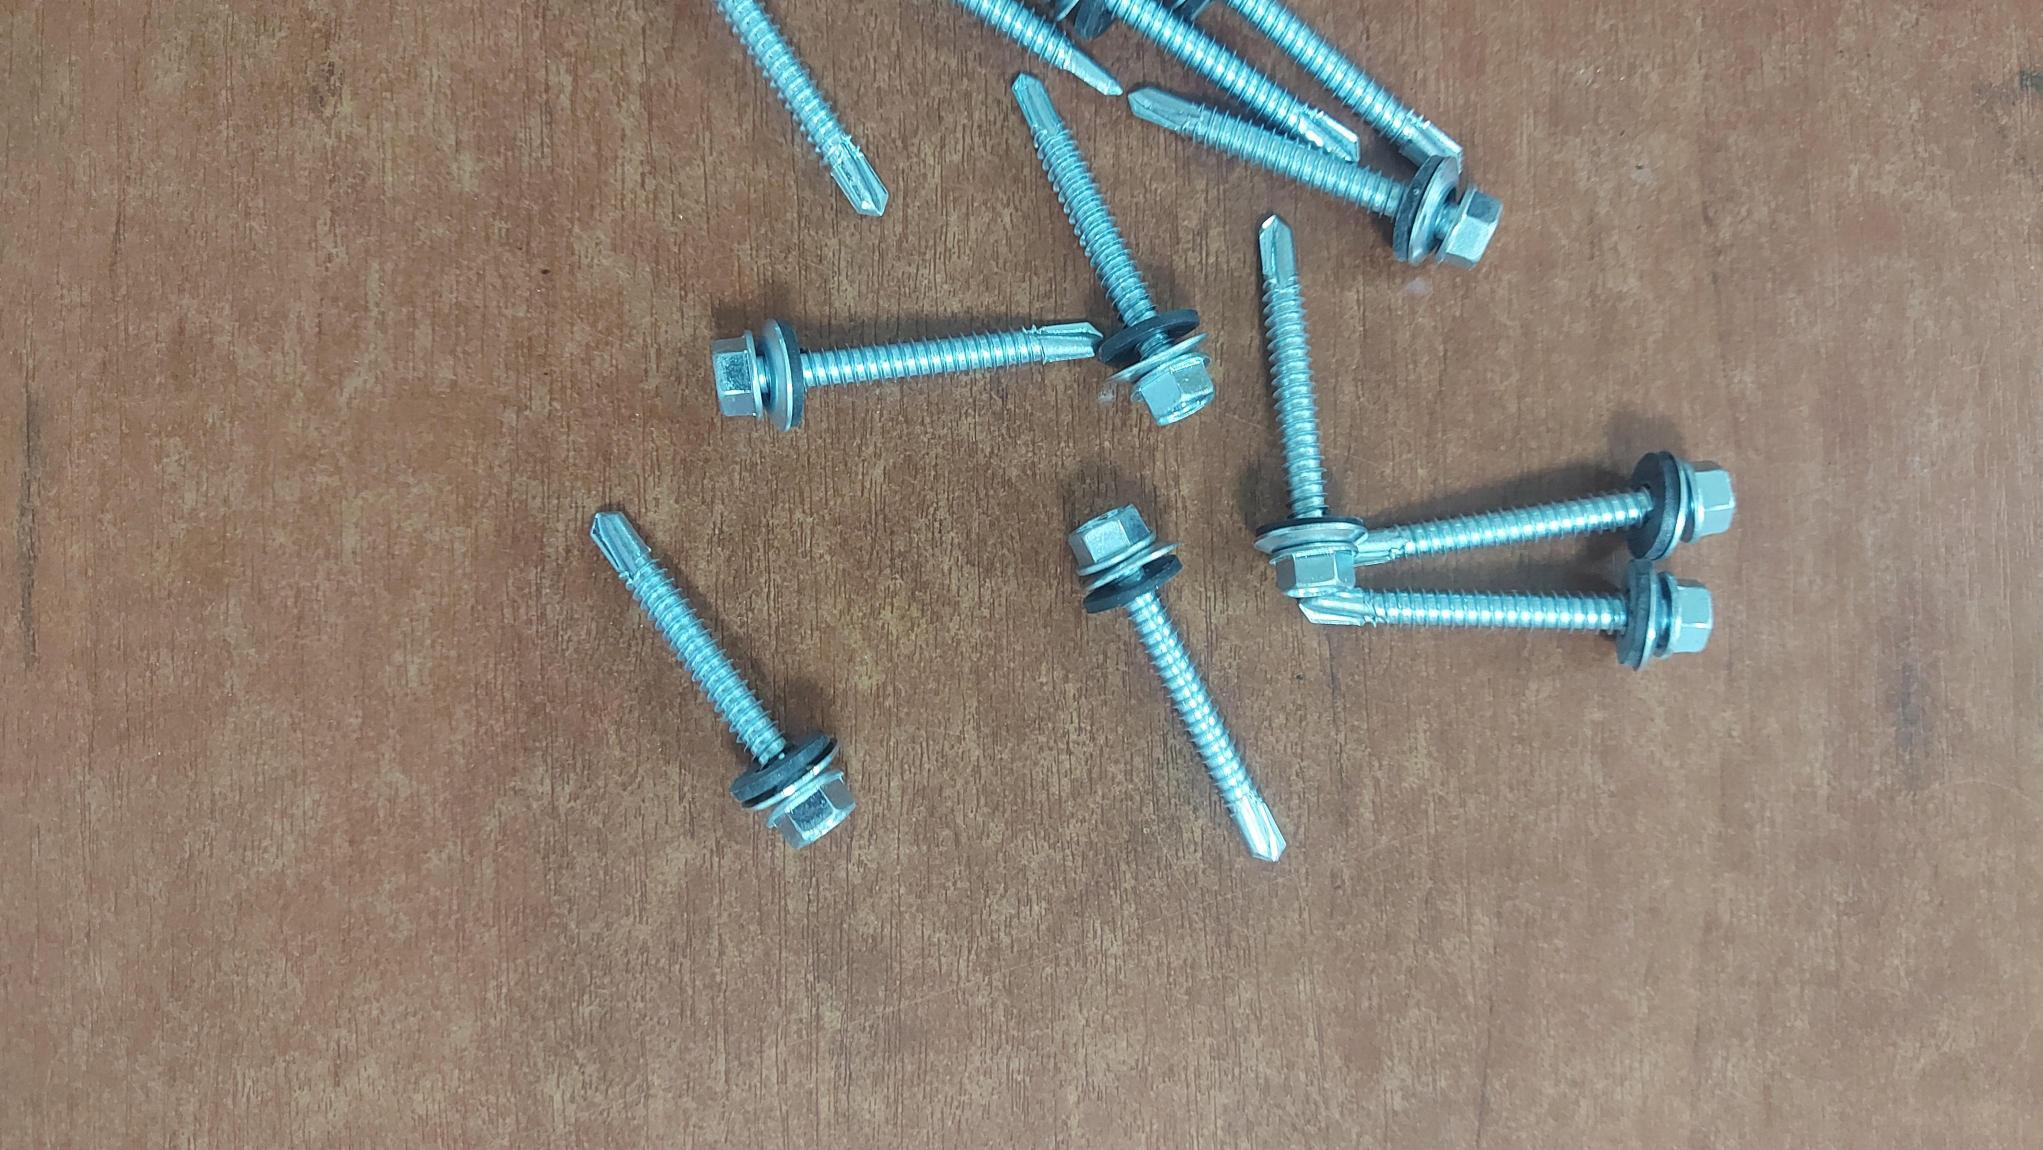Screw: (592, 512, 855, 848), (1069, 506, 1285, 861), (1014, 74, 1212, 424), (1130, 87, 1500, 266), (1299, 560, 1712, 668), (1355, 452, 1734, 564), (711, 321, 1100, 429), (1257, 215, 1364, 597)
